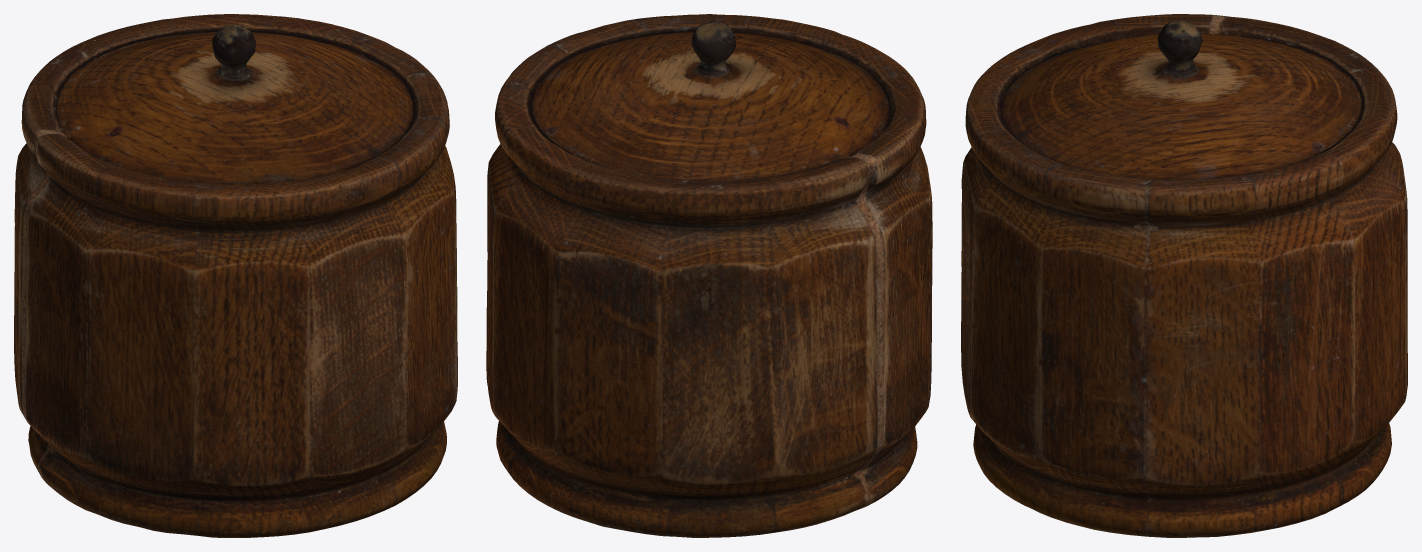
3 renders of one model, left to right at view 1: azimuth 30°, elevation 25°; view 2: azimuth 150°, elevation 25°; view 3: azimuth 270°, elevation 25°, orthographic.
Parts seen in each view (by area): view 1: Aset_wood_misc_S_ubhgfe1jw_LOD0; view 2: Aset_wood_misc_S_ubhgfe1jw_LOD0; view 3: Aset_wood_misc_S_ubhgfe1jw_LOD0.
Boxes of the visible parts, x1,y1,x2,y2 form: Aset_wood_misc_S_ubhgfe1jw_LOD0: (14,14,457,537); Aset_wood_misc_S_ubhgfe1jw_LOD0: (486,14,932,537); Aset_wood_misc_S_ubhgfe1jw_LOD0: (961,14,1407,537).
Bounding box in the file's own units: 0.0563 × 0.0565 × 0.0602.
1 material, 1 textured.
